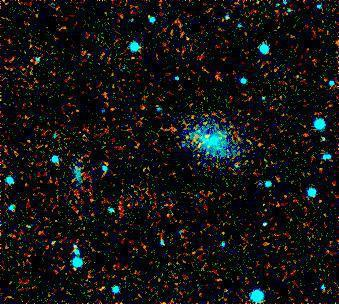star: (62, 252, 92, 282)
